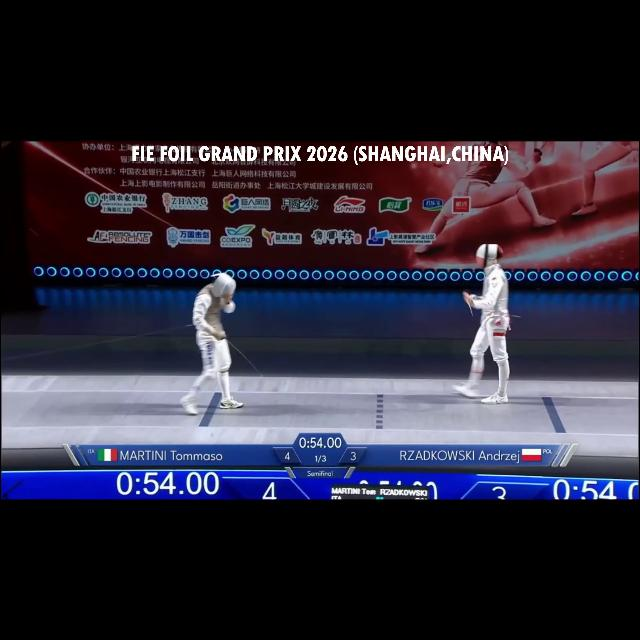blade: (215, 332, 272, 386)
